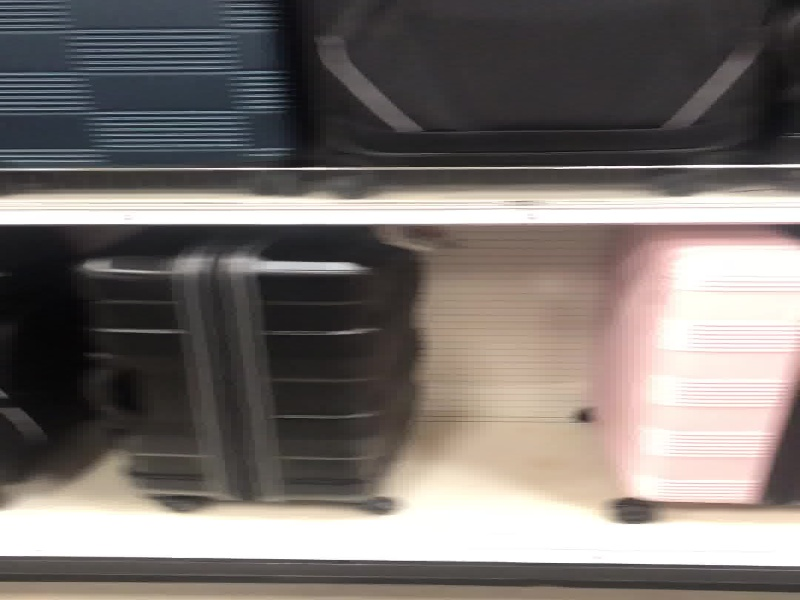empty_shelf_space: (398, 222, 614, 526)
